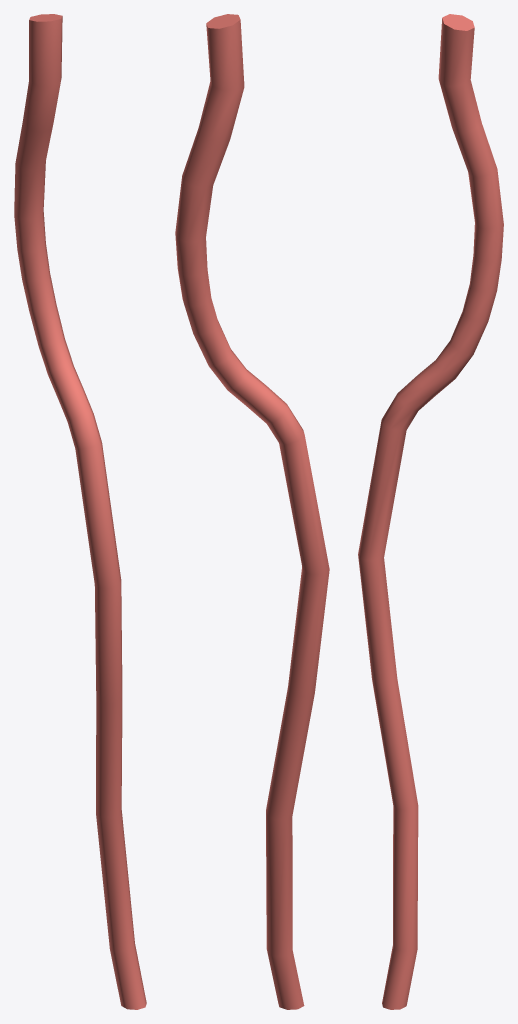
Rendered from artere-ulnaire.glb.
The picture shows the model from 3 angles, left to right: view 1: azimuth 90°, elevation 25°; view 2: azimuth 150°, elevation 25°; view 3: azimuth 330°, elevation 25°; orthographic projection. The views are drawn at different scales.
Visible parts, largest first — view 1: artere-ulnaire; view 2: artere-ulnaire; view 3: artere-ulnaire.
Part boxes in pixels (x1,y1,x2,y2): artere-ulnaire: (14, 14, 146, 1009); artere-ulnaire: (175, 14, 329, 1009); artere-ulnaire: (358, 14, 503, 1009).
Bounding box in the file's own units: 0.0139 × 0.1235 × 0.0152.
